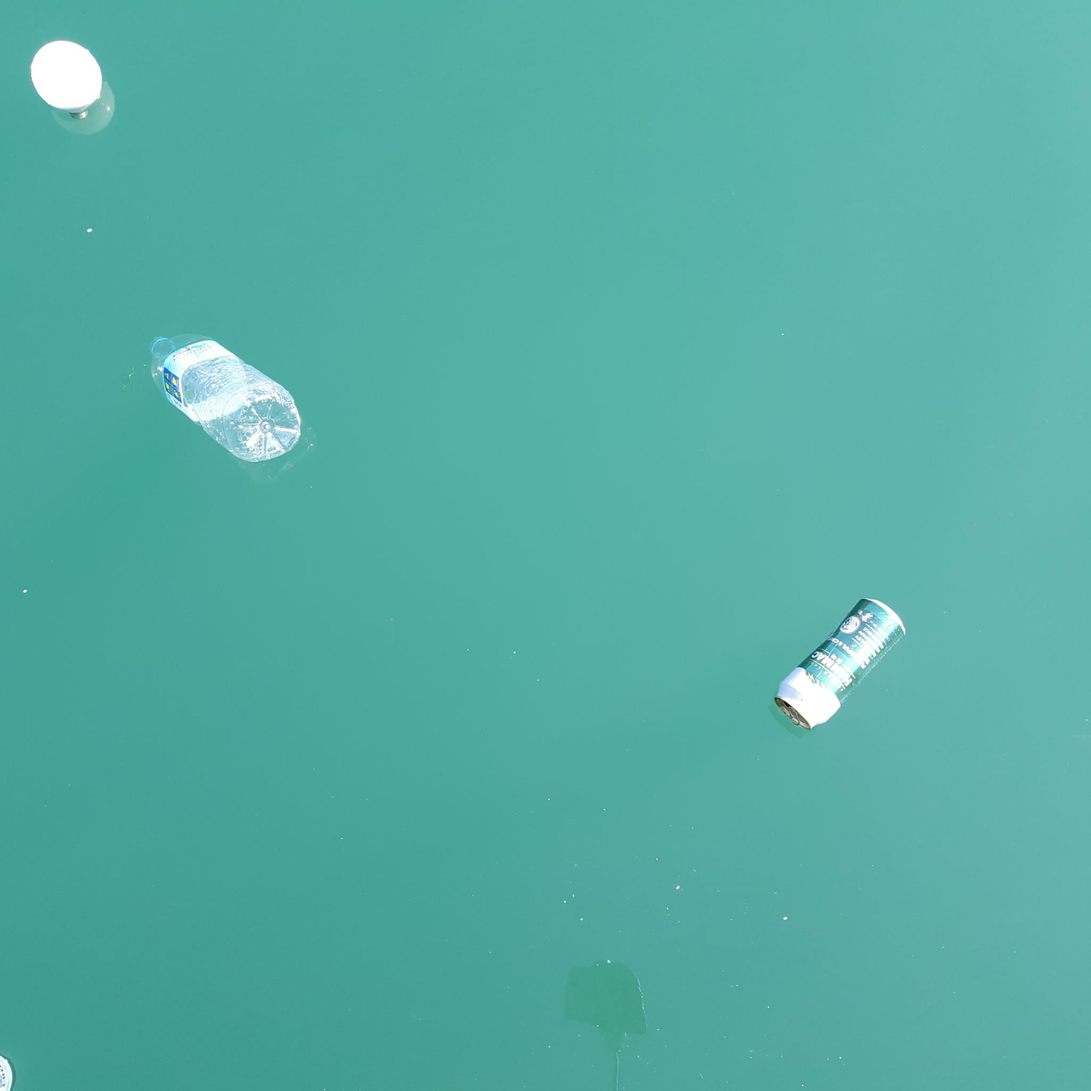sampah_terapung: (151, 334, 302, 463), (775, 599, 906, 730), (31, 40, 103, 120)
